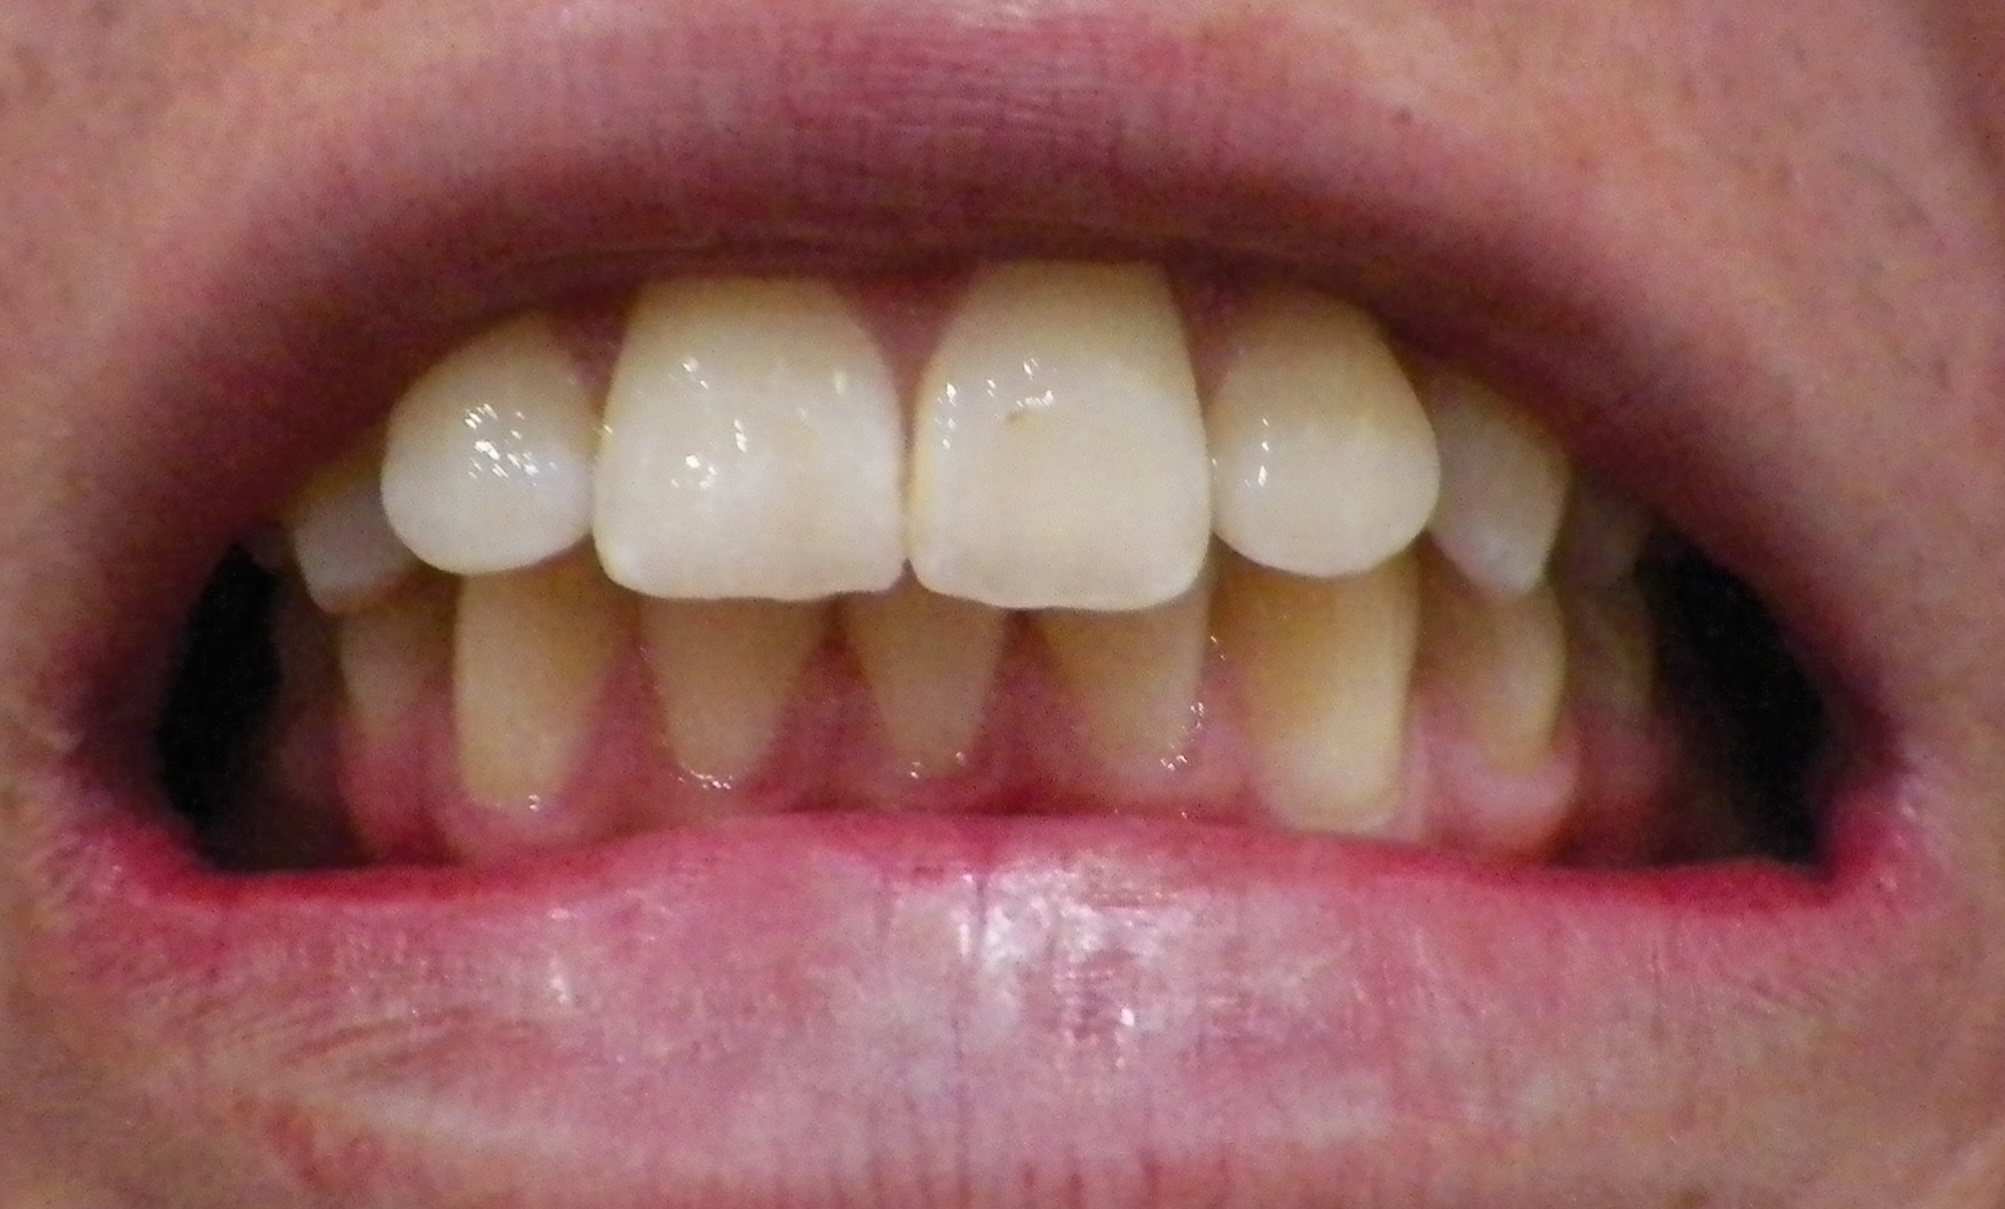boca: (291, 278, 1684, 859)
